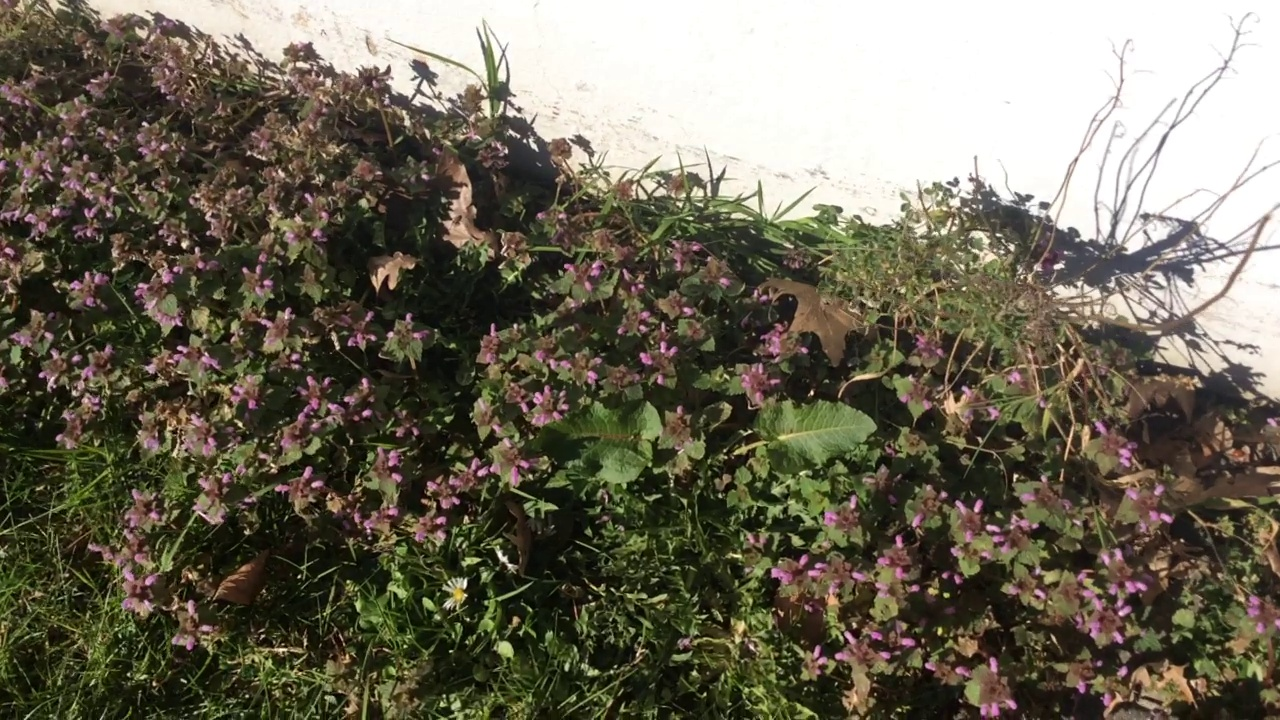rumex: (519, 397, 879, 483)
